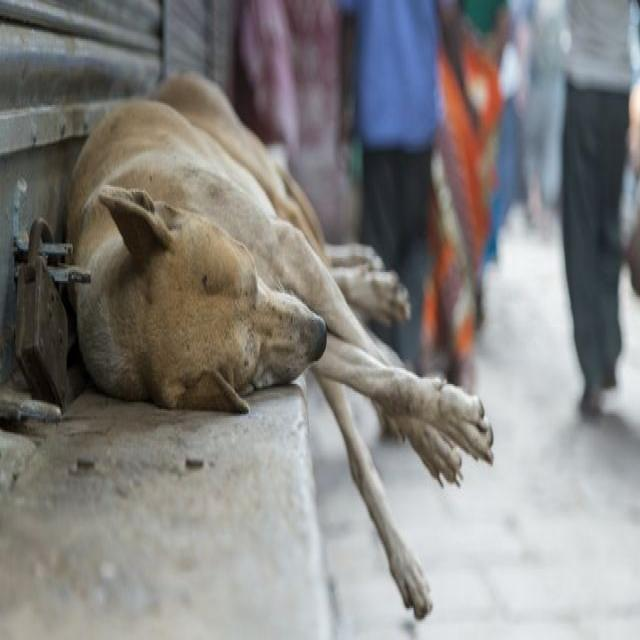laying down: (58, 63, 504, 621)
